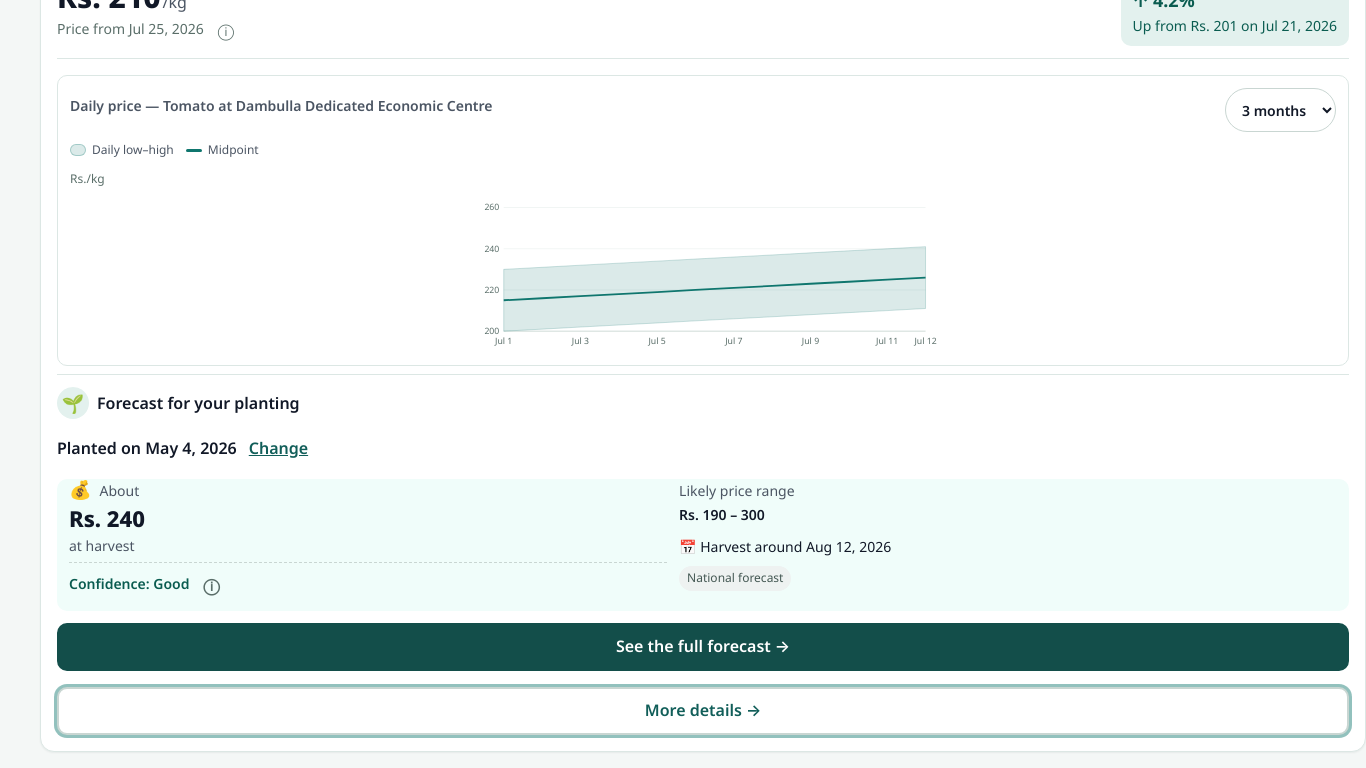
Scenario: "More details" — the popup › is a real modal: named, focused, escapable, and it gives focus back
This screenshot has width=1366, height=768.
(page scrolled)
Click the button with aria-label "More details for Tomato" at (703, 711), box [57,687,1349,735]
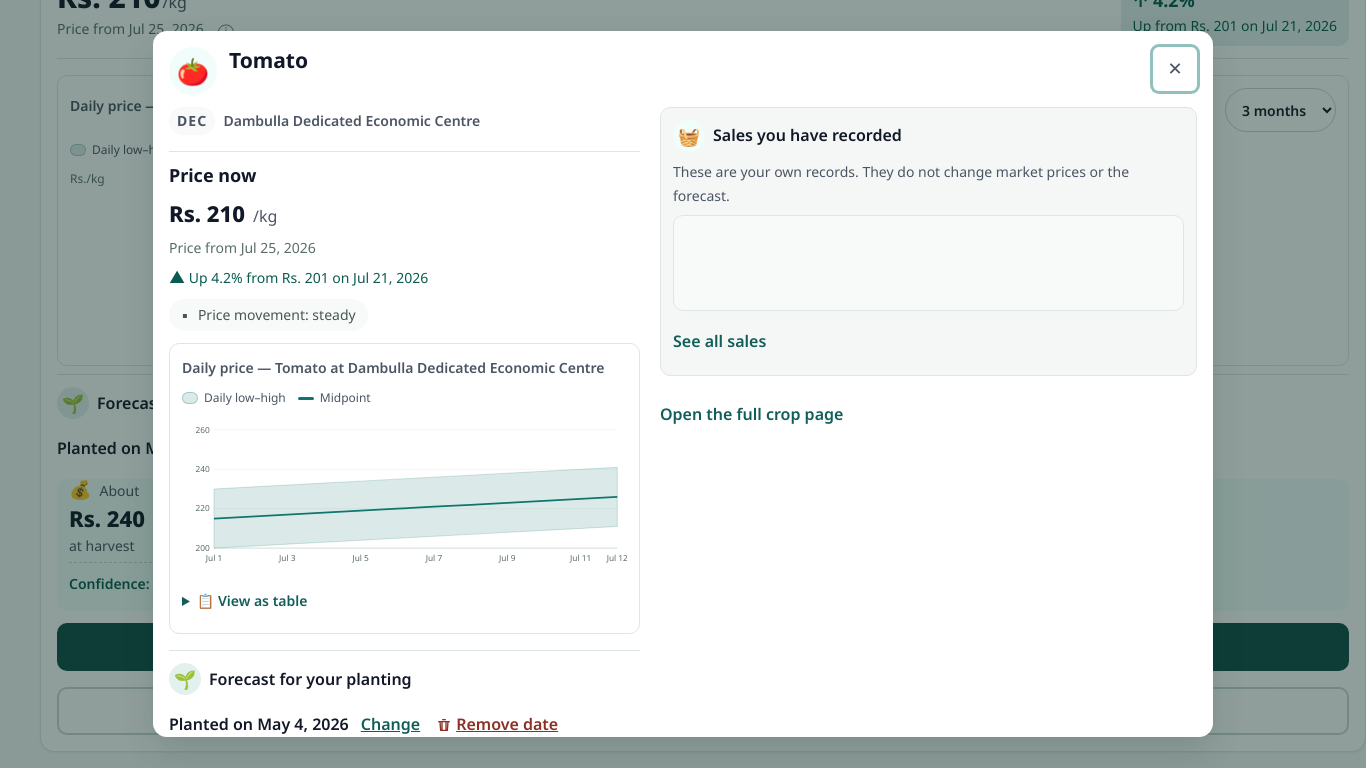
Press Escape in the dialog
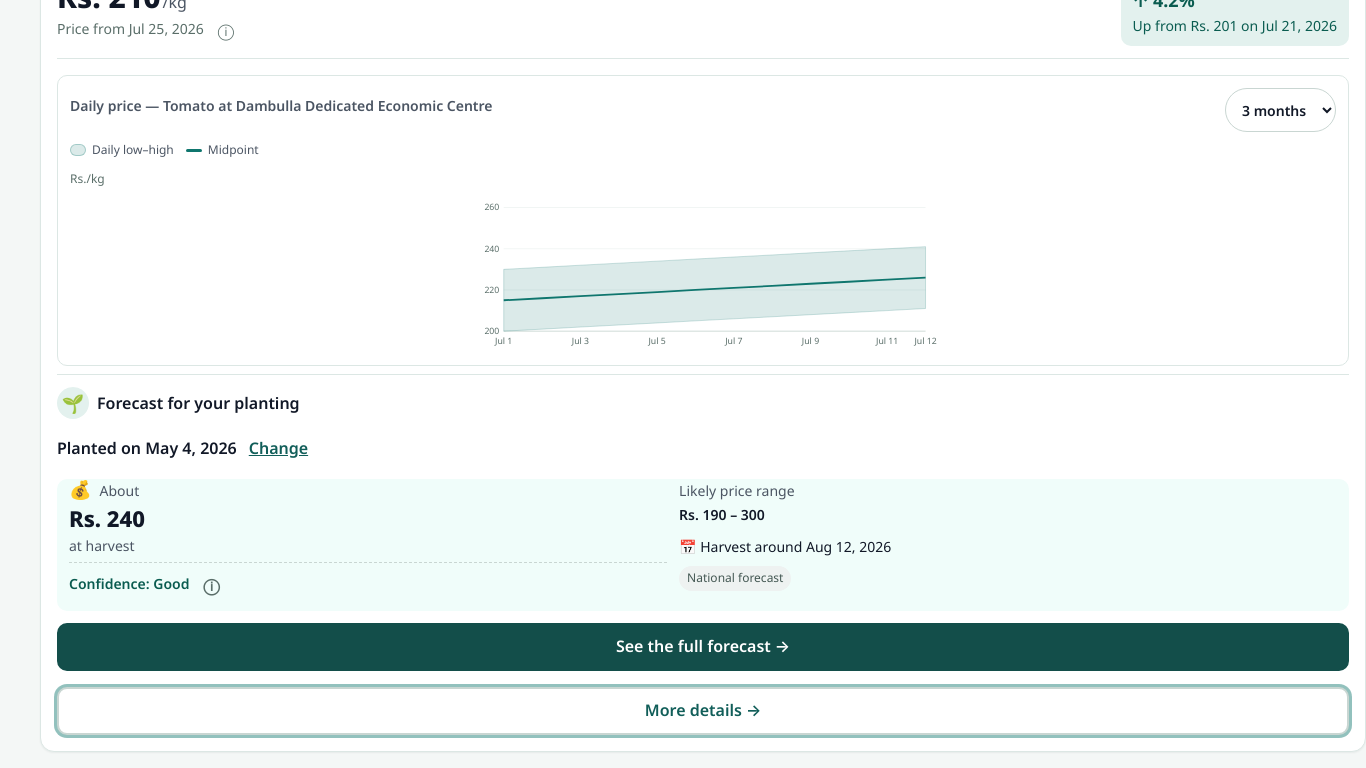
Check: the dialog is gone
